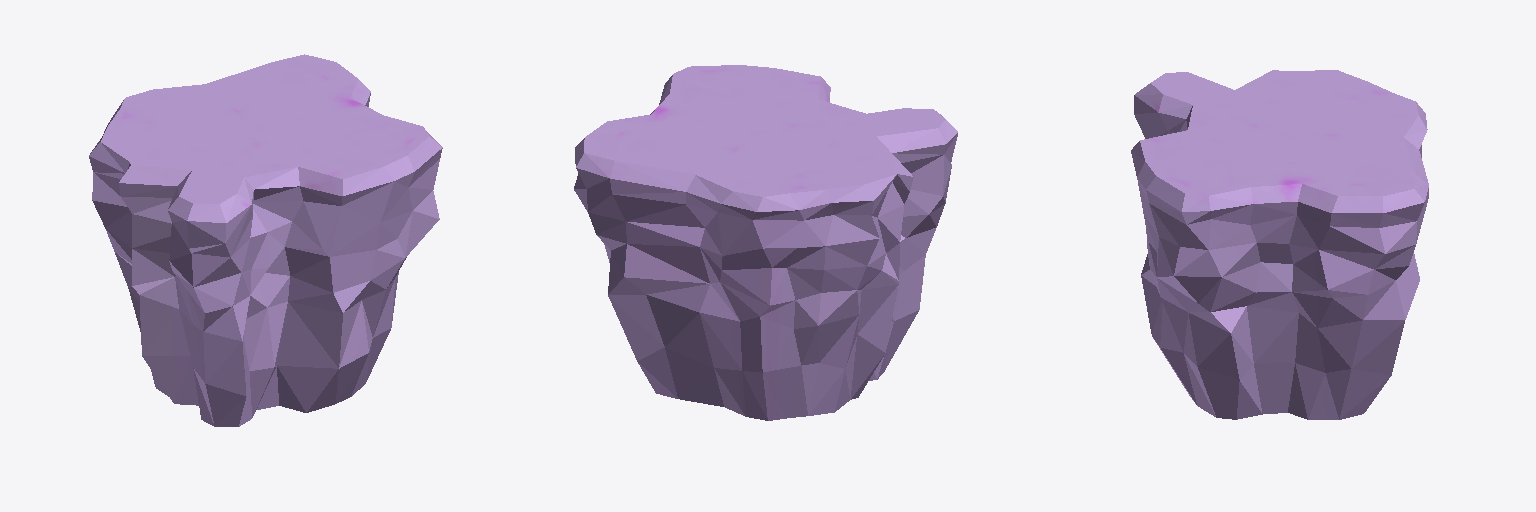
The picture shows the model from 3 angles: view 1: azimuth 30°, elevation 25°; view 2: azimuth 150°, elevation 25°; view 3: azimuth 270°, elevation 25°; orthographic projection.
Visible parts, largest first — view 1: Plane.004; view 2: Plane.004; view 3: Plane.004.
Part boxes in pixels (x1,y1,x2,y2): Plane.004: (89, 54, 442, 426); Plane.004: (574, 65, 957, 420); Plane.004: (1131, 70, 1428, 419).
Size of the model in its own units: 6.33 by 5.29 by 5.78.
Materials: 1 (1 with a texture image).